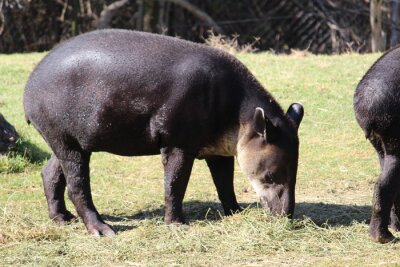Anta: (19, 25, 314, 242), (351, 40, 400, 242)
